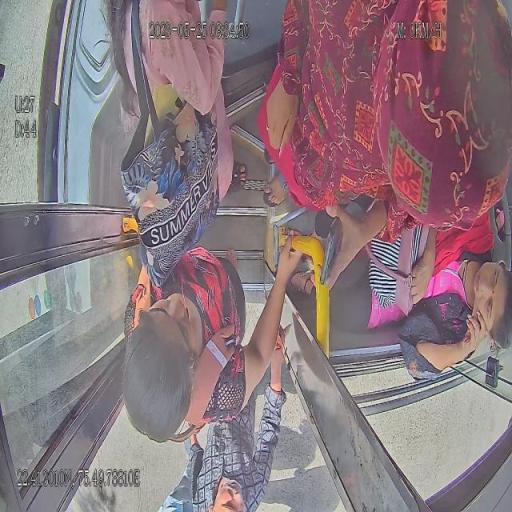persona: (256, 1, 511, 233), (102, 0, 244, 290), (287, 202, 511, 382), (119, 245, 311, 445), (189, 349, 284, 512)
